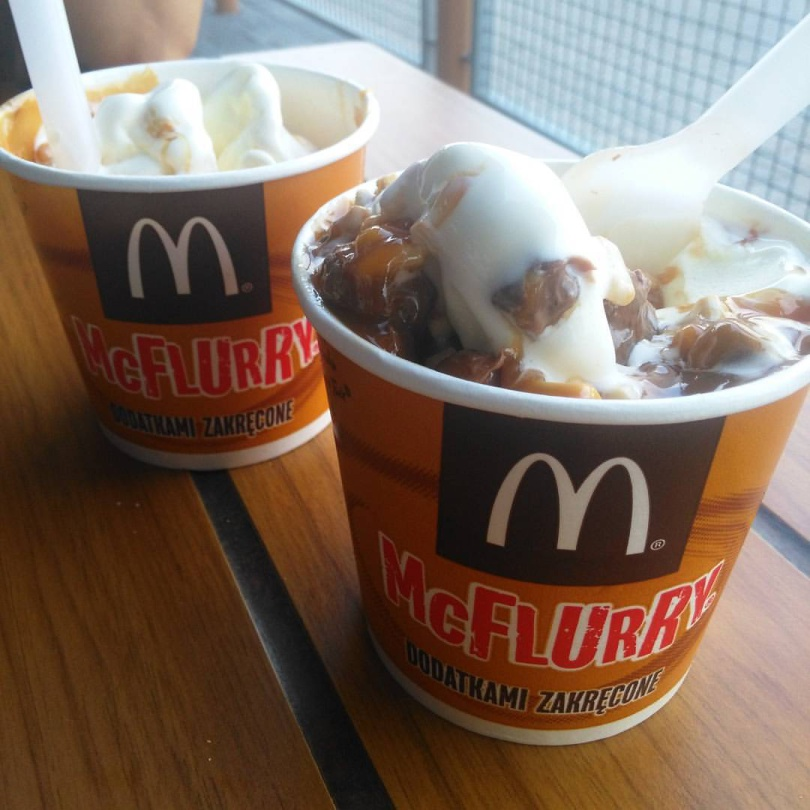mcdonalds: (481, 442, 656, 576), (116, 205, 241, 312)
